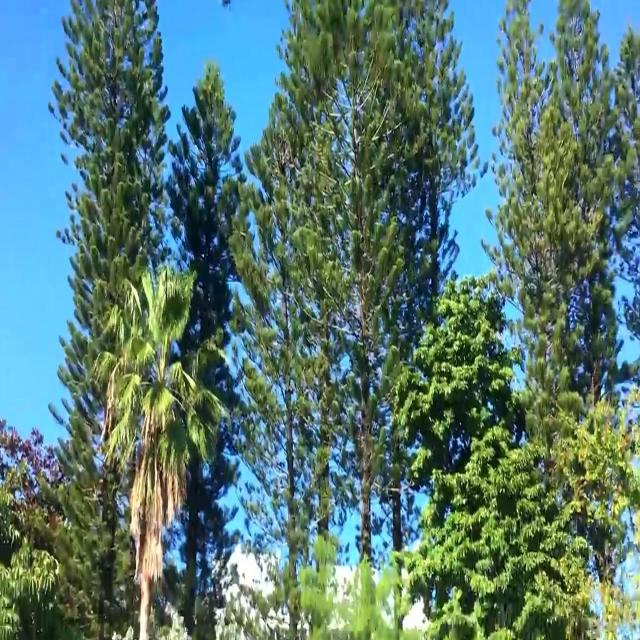UAV: (222, 0, 232, 8)
